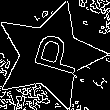P_W: (18, 30, 81, 80)
